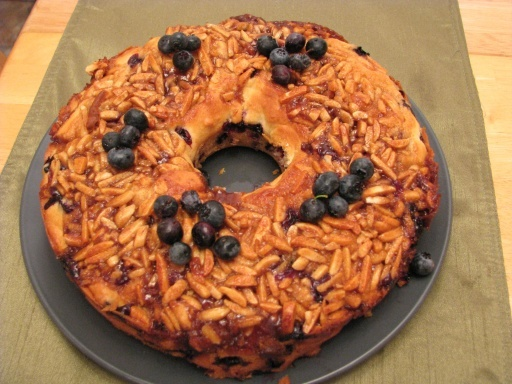background: (30, 8, 352, 227)
